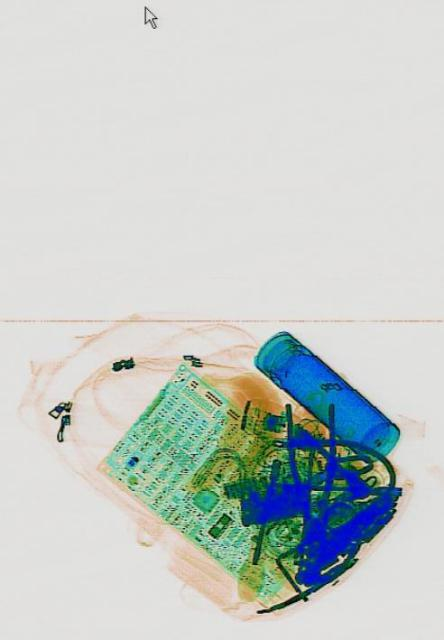Pliers: (281, 398, 338, 558)
